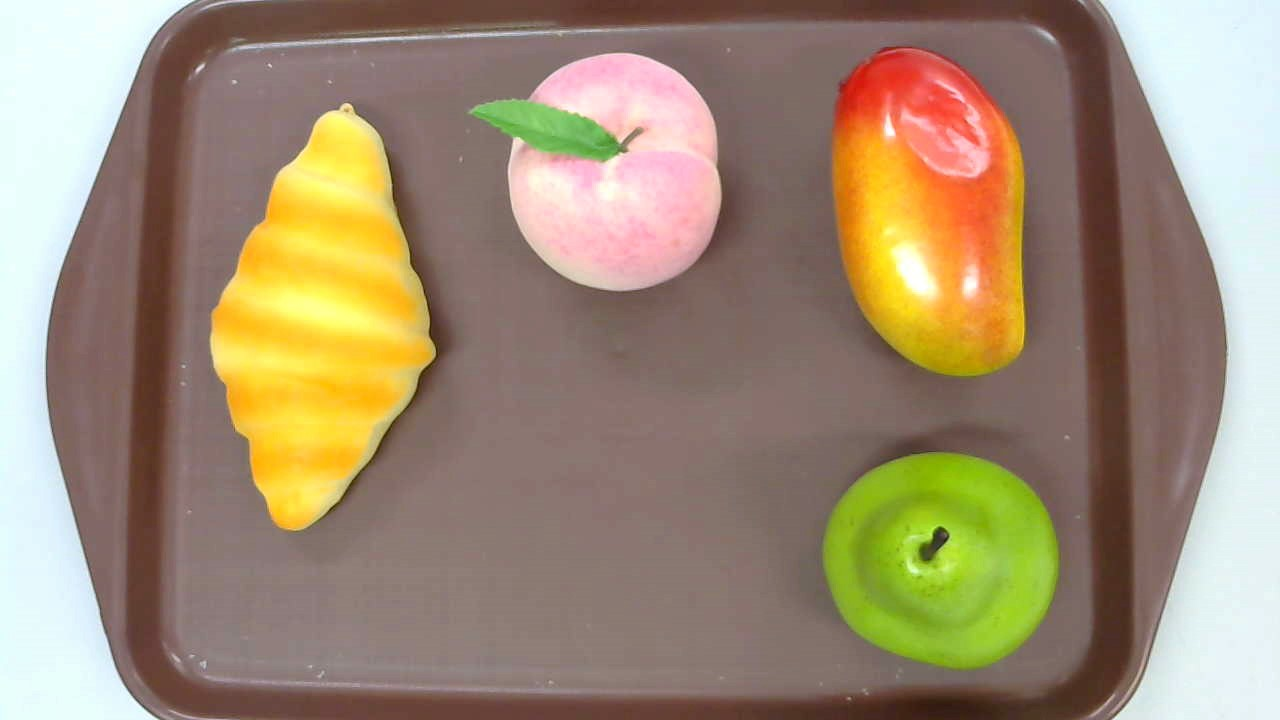croissant: (209, 103, 436, 532)
green pear: (821, 452, 1060, 668)
peach: (470, 52, 722, 292)
red mango: (832, 47, 1025, 374)
